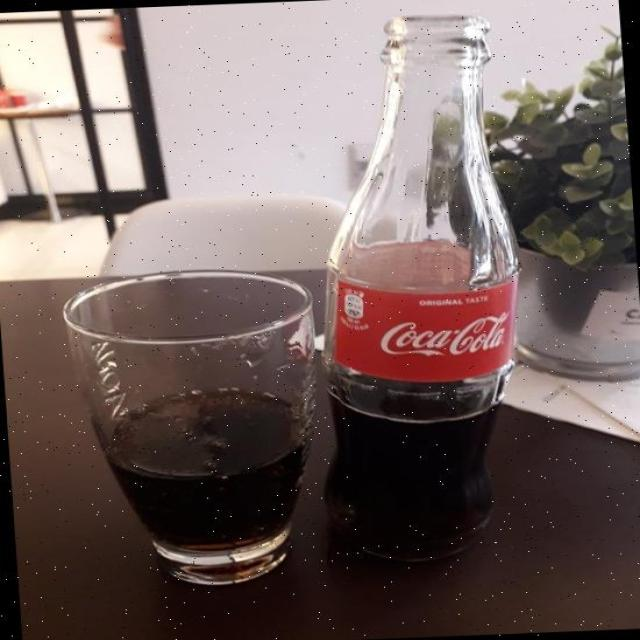coca-cola: (276, 8, 542, 584)
